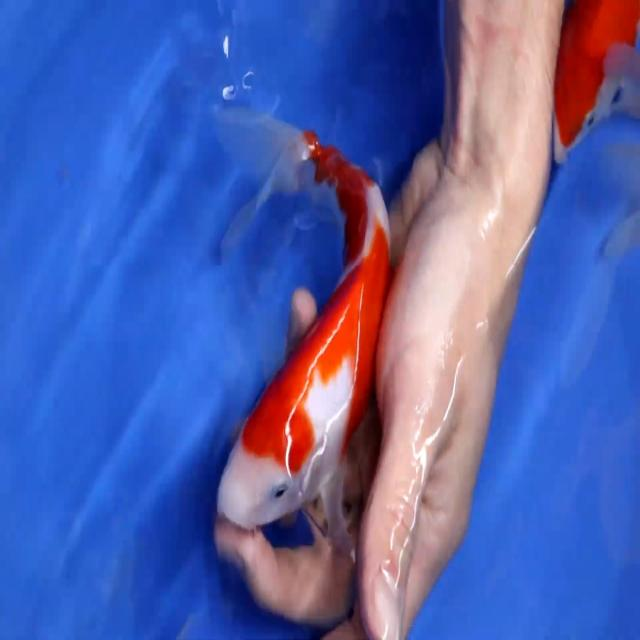Kohaku: (212, 105, 392, 558), (549, 0, 640, 174)
